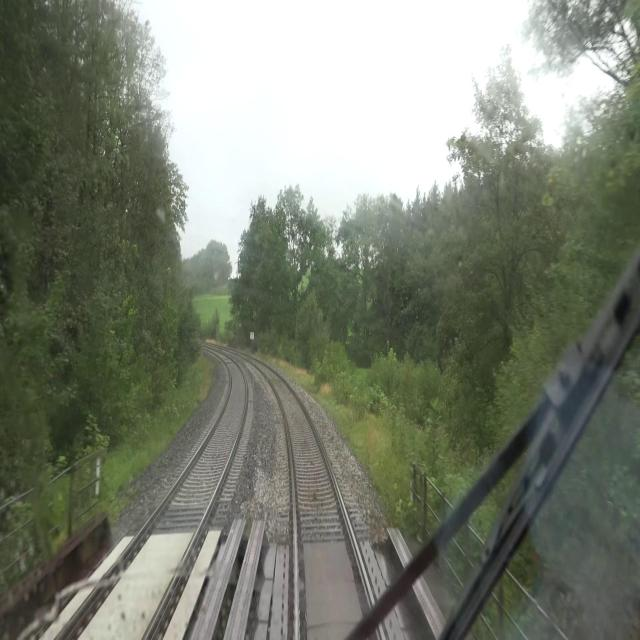rail-track: (61, 357, 244, 639), (258, 364, 367, 639)
